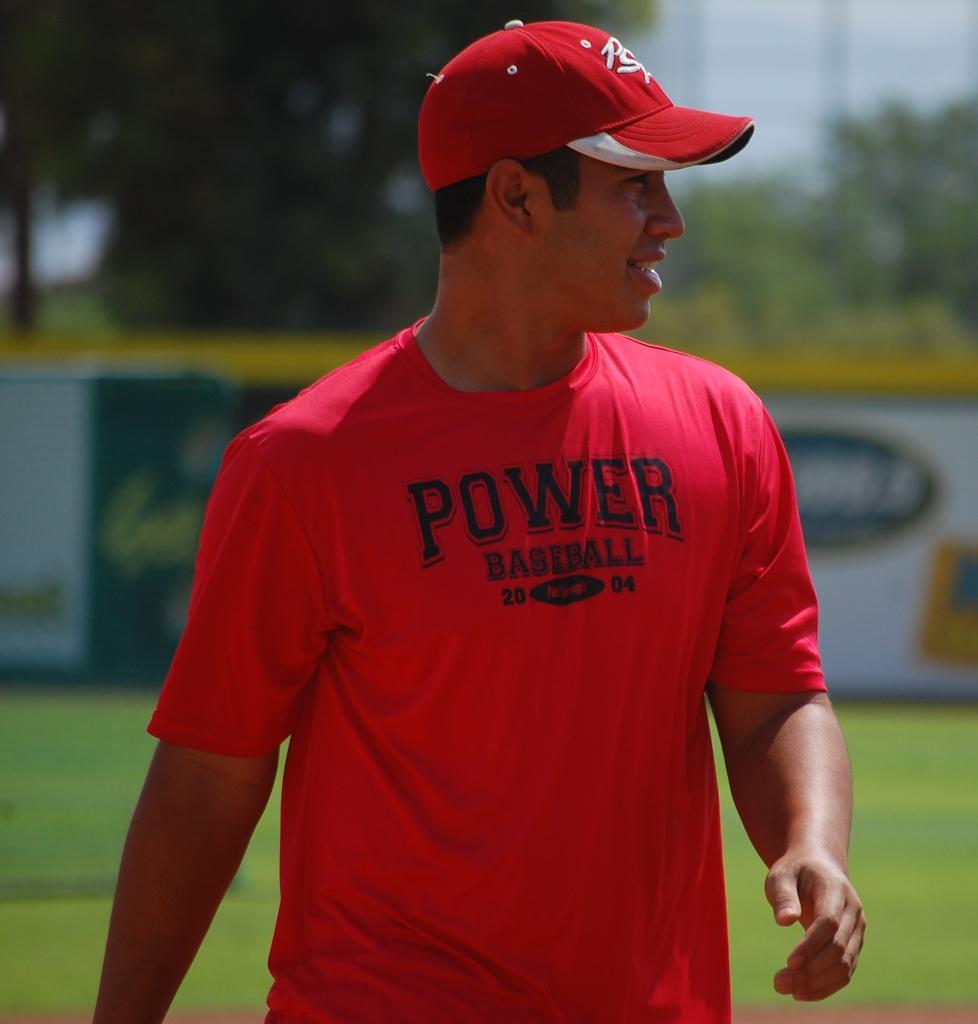Hat: (416, 20, 752, 212)
